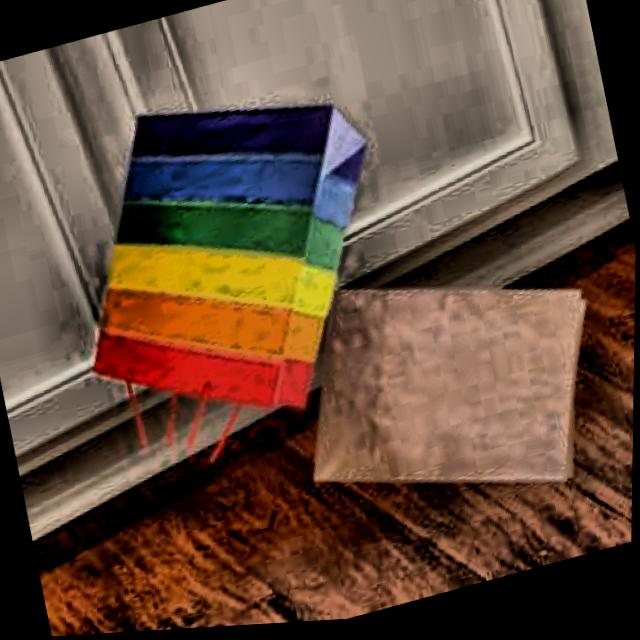Paper-bag: (19, 51, 429, 509), (270, 210, 634, 558)
